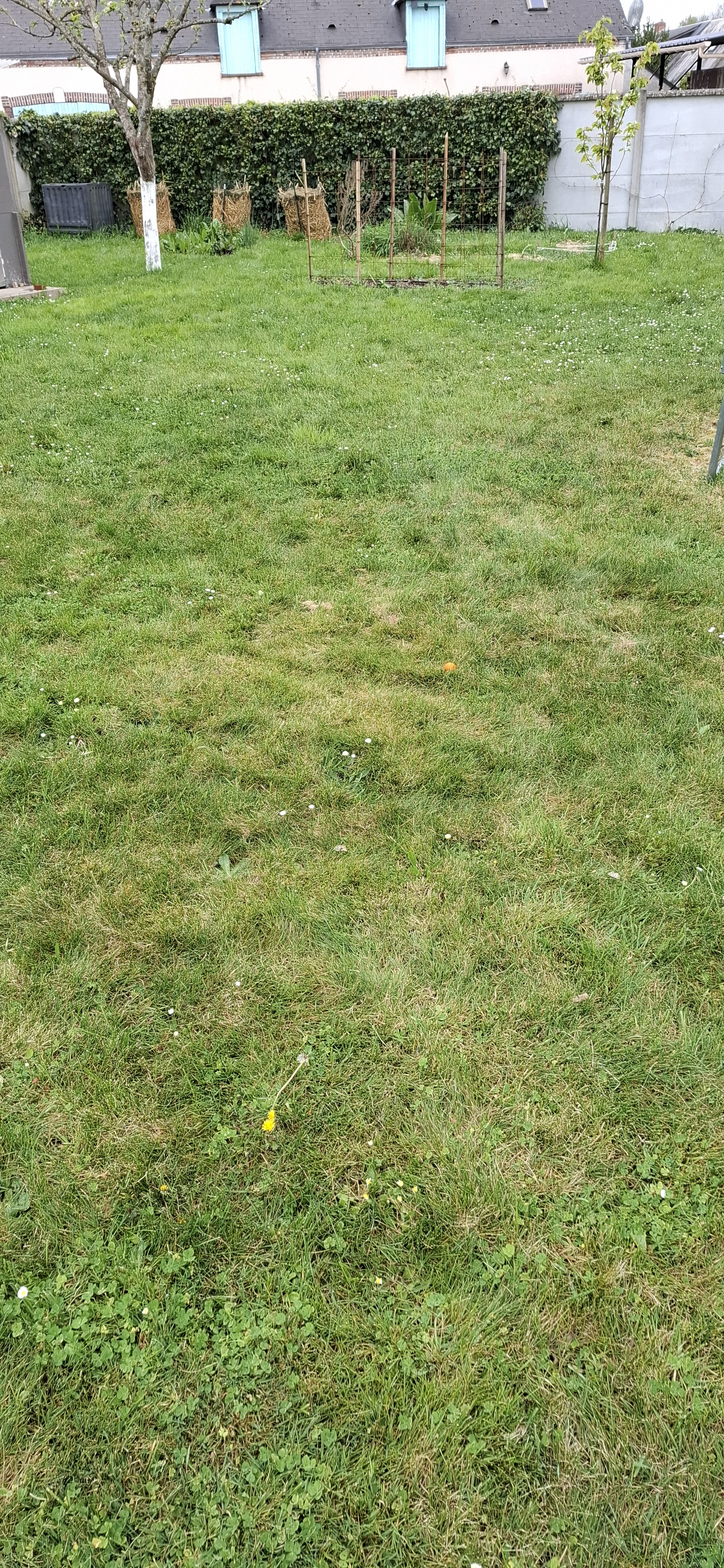ball: (306, 582, 311, 604)
